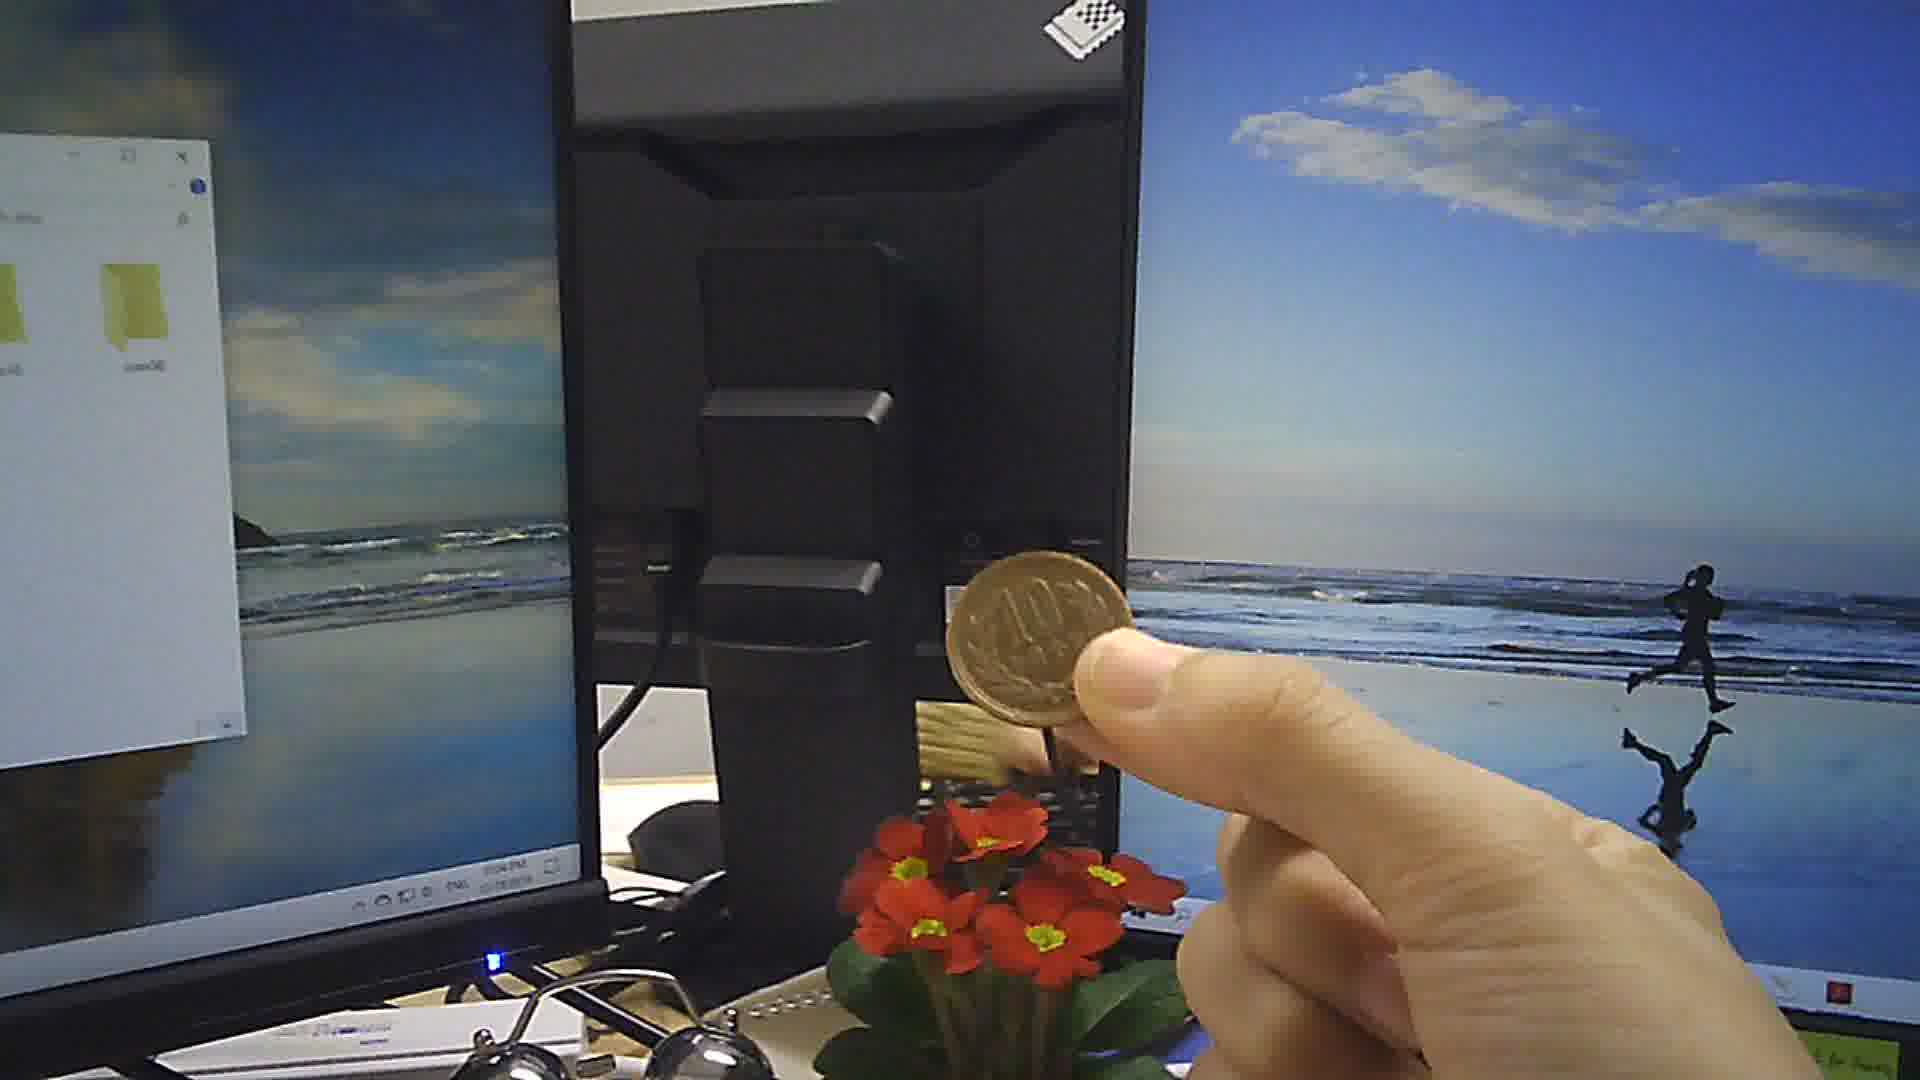10 Yen: (951, 553, 1134, 720)
